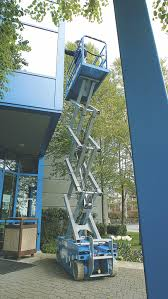Scissor Lift: (55, 35, 119, 284)
